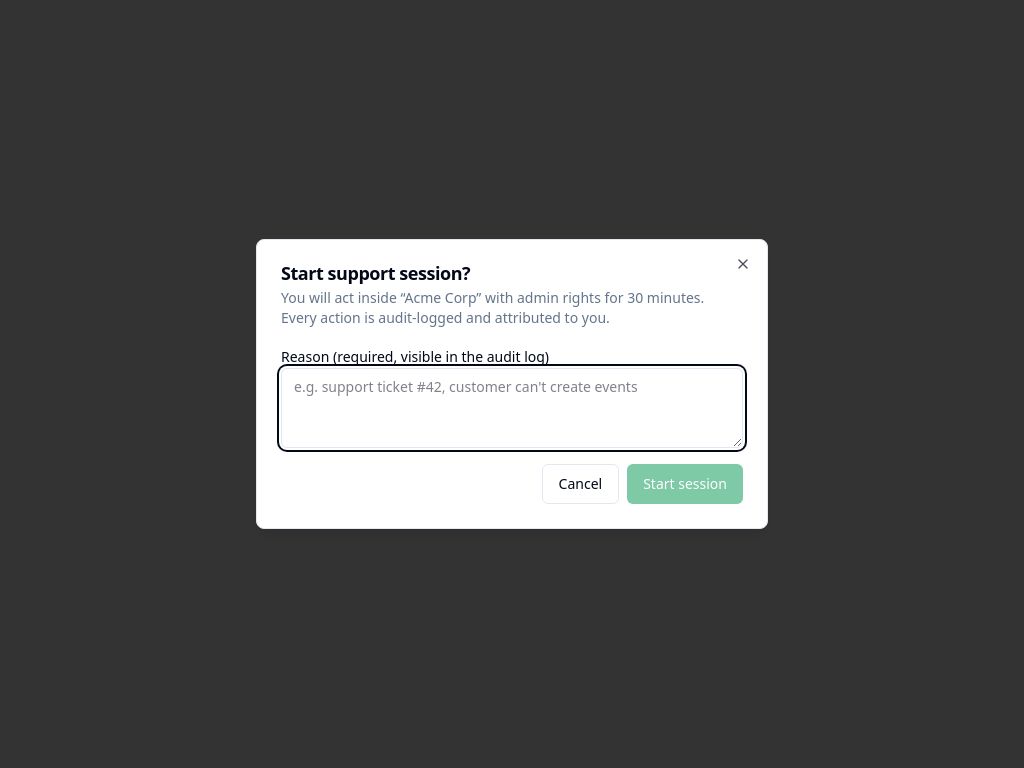
Scenario: ImpersonateDialog › keeps confirm disabled until a reason is typed
The image size is (1024, 768).
Expected: the button "Start session" is disabled, [627,464,743,504]
In the text box: (512, 408) [281,368,743,448], type "customer requested help debugging check-in"
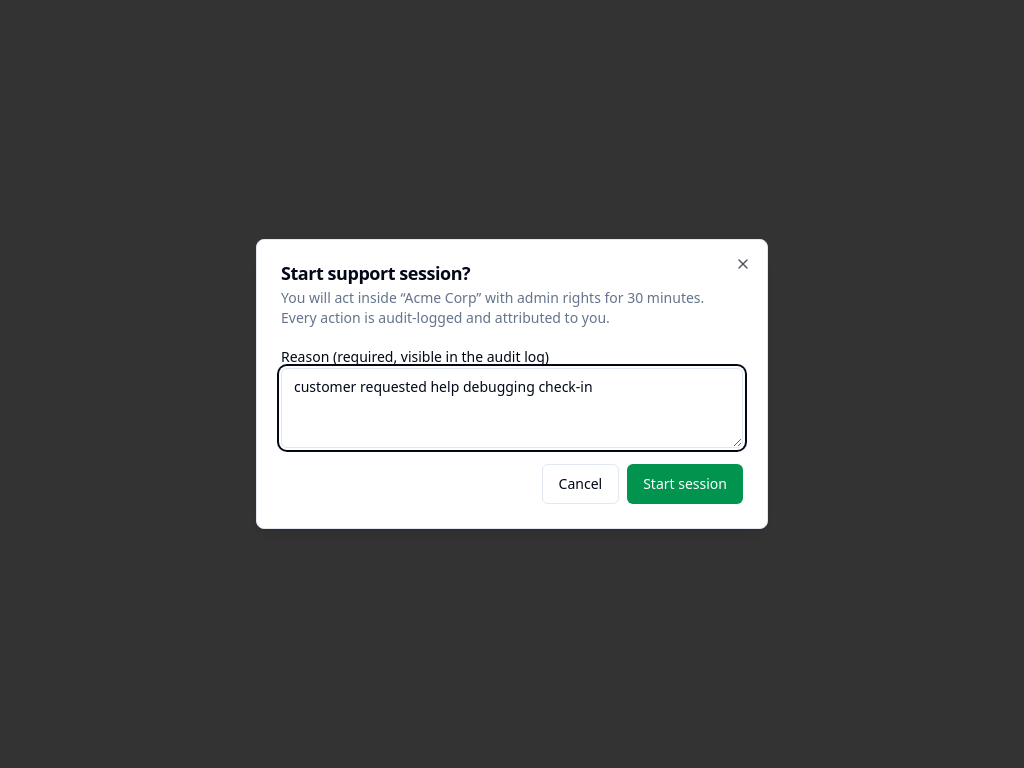
Now the button "Start session" is enabled, box [627,464,743,504]
